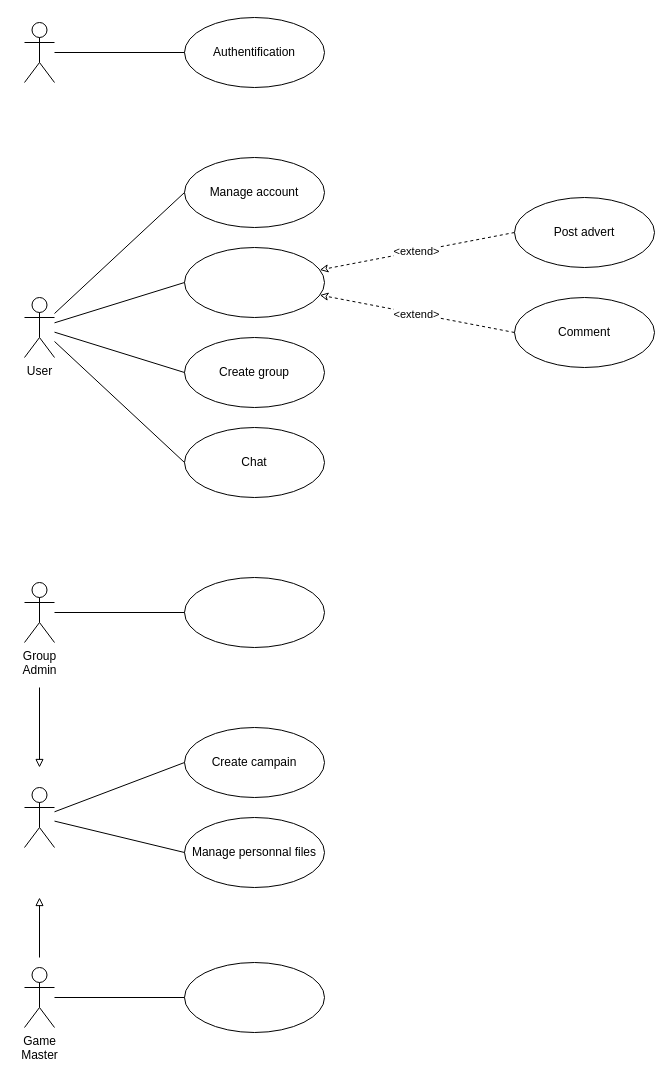
The diagram is 672 pixels wide and 1081 high, and some of its shapes have lost their labels. Here are the shapes that lost their labels. From the top down, the centre of each, then its label:
point 39,52: Visitor
point 254,282: View advert
point 254,612: Manage group
point 39,817: Group Member
point 254,997: Manage campain
